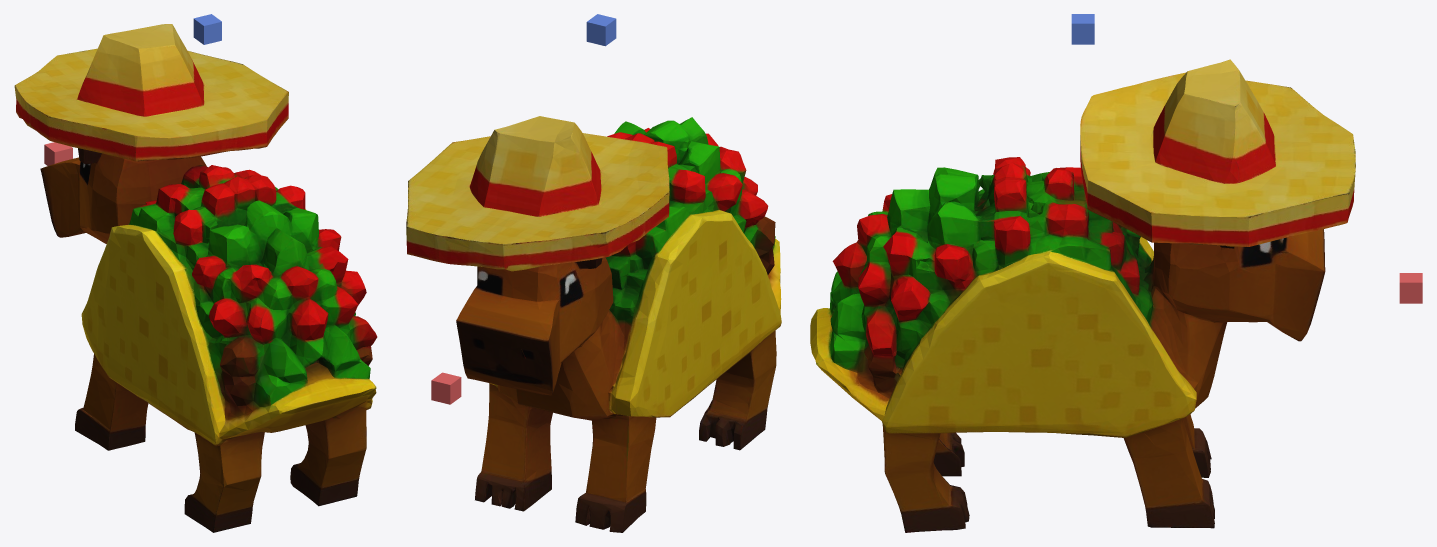
The model's file is CapibaraTacoloco.glb.
3 views of the same model, side by side, from view 1: azimuth 30°, elevation 25°; view 2: azimuth 150°, elevation 25°; view 3: azimuth 270°, elevation 25° (orthographic). The views are drawn at different scales.
Visible parts, largest first — view 1: CapibaraTacoloco_Body, CapibaraTacoloco_Leg2, CapibaraTacoloco_Leg1, CapibaraTacoloco_Top, CapibaraTacoloco_Front; view 2: CapibaraTacoloco_Body, CapibaraTacoloco_Leg2, CapibaraTacoloco_Leg1, CapibaraTacoloco_Front, CapibaraTacoloco_Top; view 3: CapibaraTacoloco_Body, CapibaraTacoloco_Leg1, CapibaraTacoloco_Leg2, CapibaraTacoloco_Front, CapibaraTacoloco_Top.
Boxes of the visible parts, box(x1,y1,x2,y2) form: CapibaraTacoloco_Body: box(14, 24, 377, 457); CapibaraTacoloco_Leg2: box(75, 354, 263, 532); CapibaraTacoloco_Leg1: box(290, 408, 366, 506); CapibaraTacoloco_Top: box(193, 14, 221, 44); CapibaraTacoloco_Front: box(44, 142, 72, 165); CapibaraTacoloco_Body: box(406, 116, 781, 433); CapibaraTacoloco_Leg2: box(575, 330, 776, 532); CapibaraTacoloco_Leg1: box(475, 391, 552, 511); CapibaraTacoloco_Front: box(431, 372, 461, 404); CapibaraTacoloco_Top: box(586, 14, 616, 46); CapibaraTacoloco_Body: box(810, 59, 1355, 439); CapibaraTacoloco_Leg1: box(883, 418, 1214, 532); CapibaraTacoloco_Leg2: box(933, 414, 1211, 477); CapibaraTacoloco_Front: box(1399, 273, 1422, 303); CapibaraTacoloco_Top: box(1071, 14, 1094, 44).
Bounding box in the file's own units: 3.09 × 5.72 × 6.65.
Materials: 1 (1 with a texture image).
